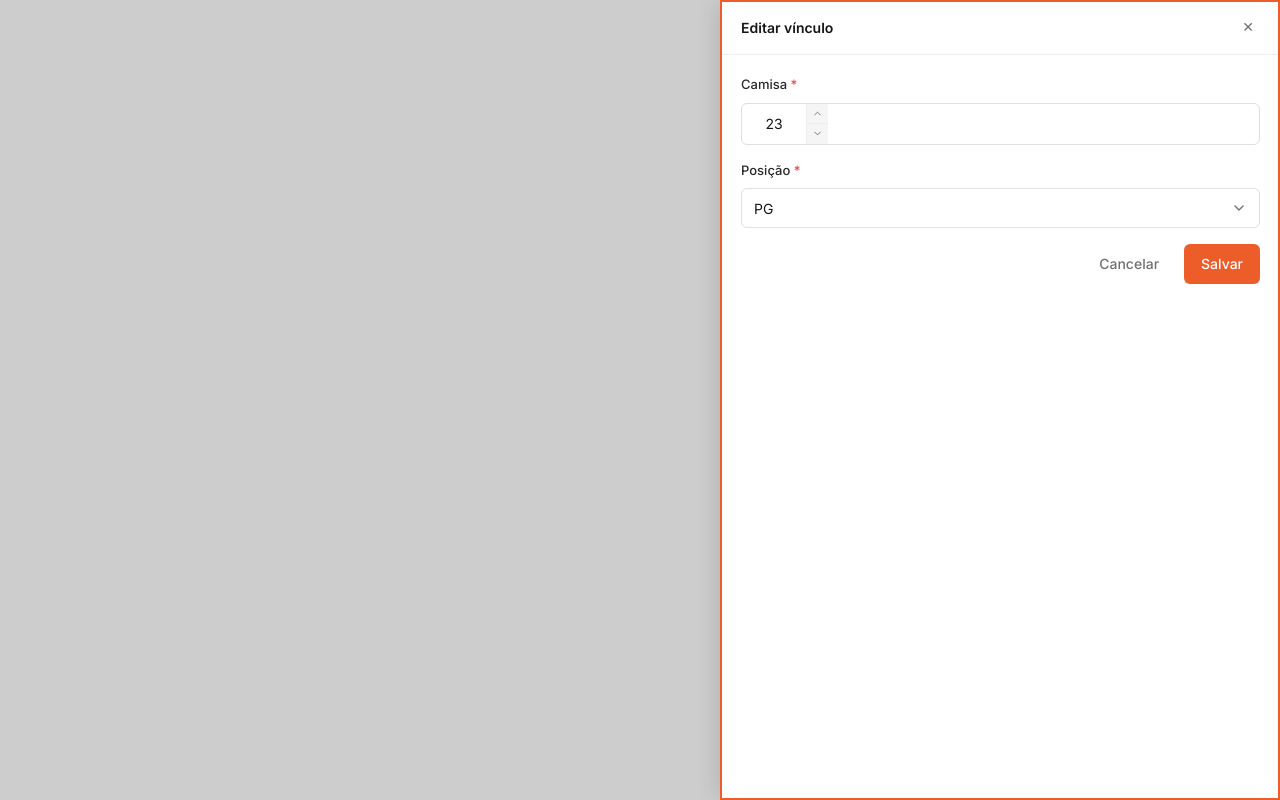
Test: EditMembershipDrawer › blocks saving an athlete without a jersey number
The image size is (1280, 800).
Clear the number field labelled "Camisa" at [774, 124], box [742, 104, 806, 144]
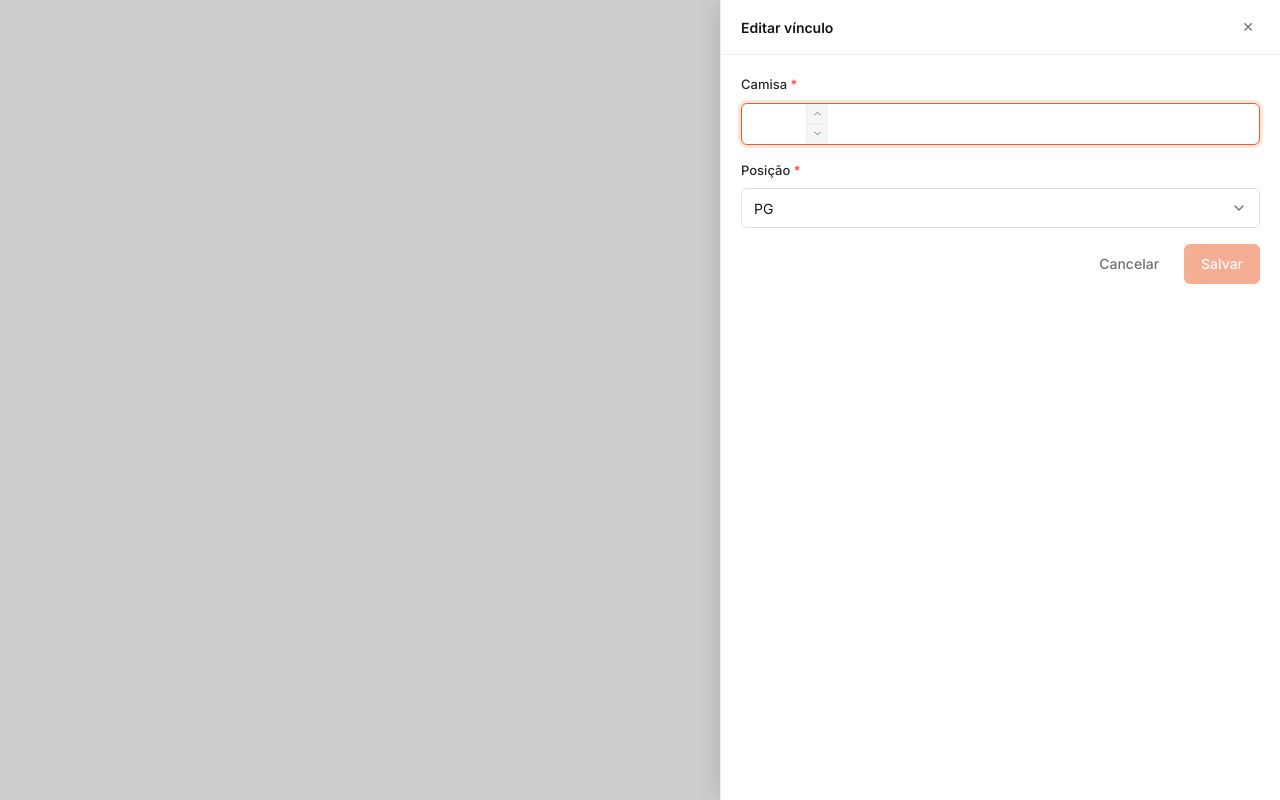
Result: the button "Salvar" is disabled at [1184, 244, 1260, 284]
